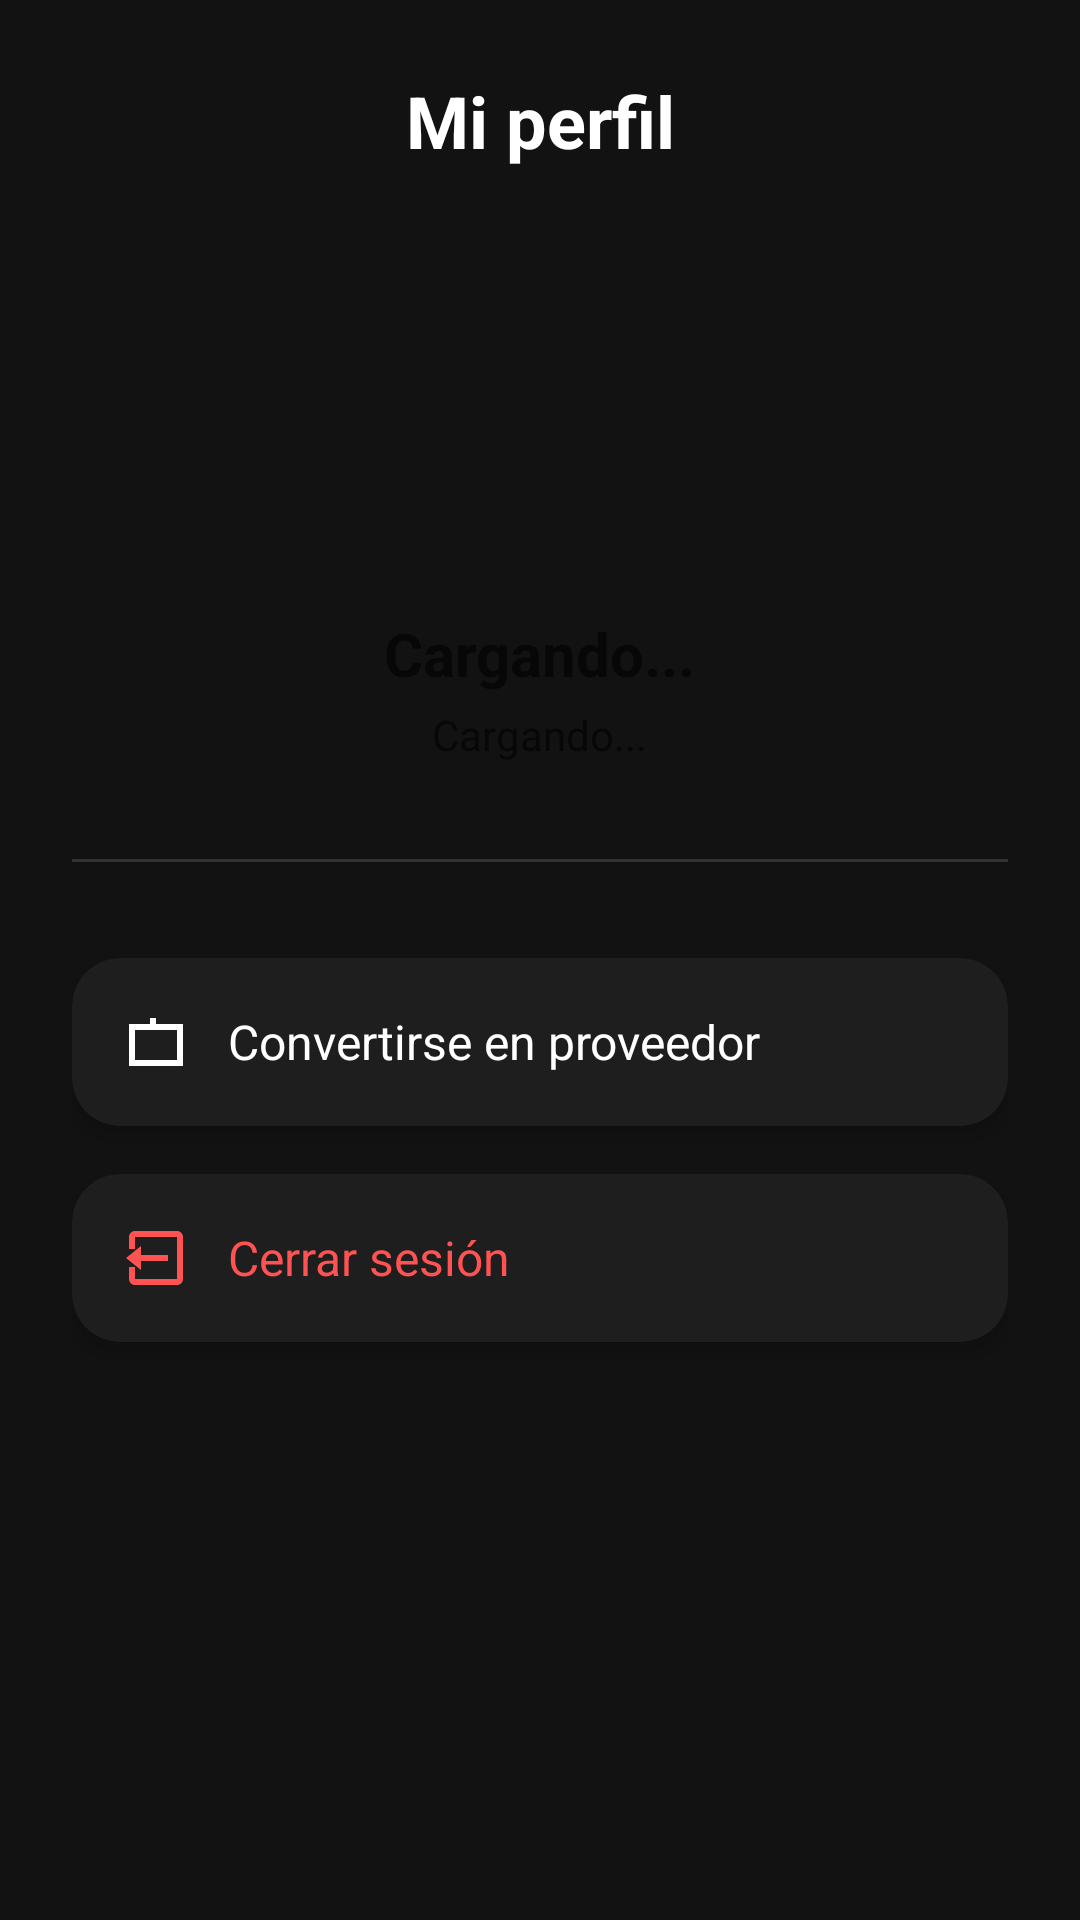

Screen size 1080px x 1920px. Icon name, then its box in pixels as (x1, y1, x2, y2):
briefcase: (129, 1018, 183, 1066)
